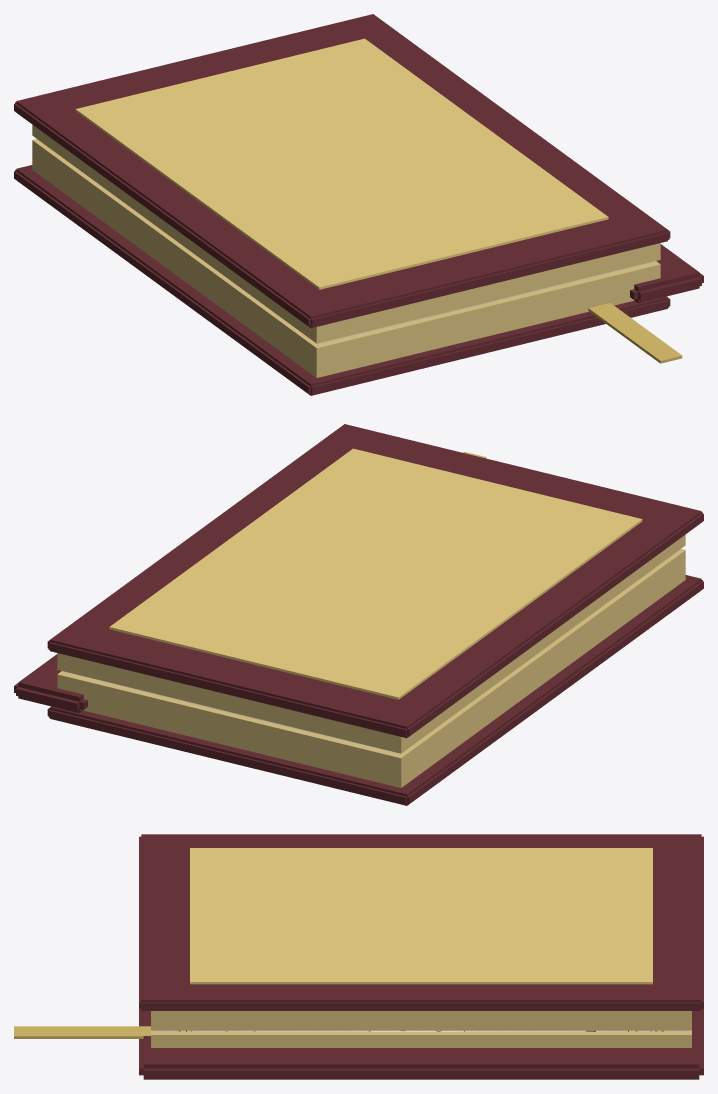
File: siddur_3d.glb
The picture shows the model from 3 angles, top to bottom: view 1: azimuth 30°, elevation 25°; view 2: azimuth 150°, elevation 25°; view 3: azimuth 270°, elevation 25°; orthographic projection. The views are drawn at different scales.
Parts seen in each view (by area): view 1: Siddur_GoldTrim, Siddur_FrontCover, Siddur_PageBlockLeft, Siddur_BackCover, Siddur_PageBlockRight, Siddur_Spine, Siddur_SilkRibbon; view 2: Siddur_GoldTrim, Siddur_FrontCover, Siddur_PageBlockLeft, Siddur_BackCover, Siddur_PageBlockRight, Siddur_Spine; view 3: Siddur_GoldTrim, Siddur_FrontCover, Siddur_Spine, Siddur_PageBlockRight, Siddur_PageBlockLeft, Siddur_SilkRibbon, Siddur_PageSurfLeft, Siddur_BackCover.
Boxes of the visible parts, x1,y1,x2,y2 form: Siddur_GoldTrim: (75,38,608,289); Siddur_FrontCover: (14,14,670,328); Siddur_PageBlockLeft: (32,139,660,377); Siddur_BackCover: (14,165,670,395); Siddur_PageBlockRight: (32,124,660,343); Siddur_Spine: (630,244,703,303); Siddur_SilkRibbon: (588,303,682,363); Siddur_GoldTrim: (109,448,642,699); Siddur_FrontCover: (47,424,703,738); Siddur_PageBlockLeft: (57,549,685,787); Siddur_BackCover: (47,575,703,805); Siddur_PageBlockRight: (57,534,685,753); Siddur_Spine: (14,654,87,713); Siddur_GoldTrim: (190,848,652,984); Siddur_FrontCover: (139,834,703,1010); Siddur_Spine: (139,1036,703,1079); Siddur_PageBlockRight: (151,1011,691,1030); Siddur_PageBlockLeft: (151,1030,691,1047); Siddur_SilkRibbon: (14,1026,150,1038); Siddur_PageSurfLeft: (156,1030,687,1031); Siddur_BackCover: (139,1008,703,1040).
Size of the model in its own units: 0.181 by 0.0356 by 0.287.
6 materials, 2 textured.
